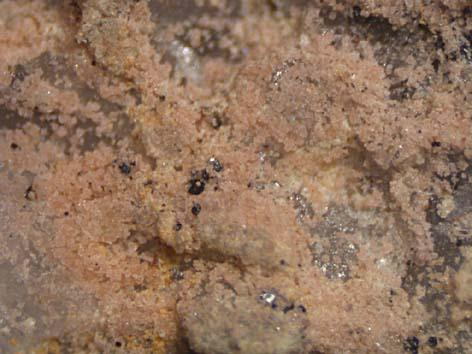erythrite: (0, 1, 472, 354), (310, 203, 358, 282), (170, 40, 201, 78), (290, 191, 315, 226), (271, 59, 297, 88), (208, 156, 224, 172)
